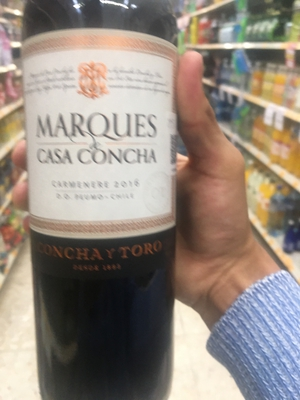marques de casa concha carmenere: (20, 6, 191, 396)
